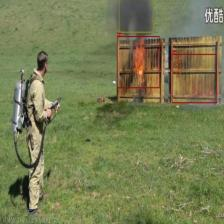fire: (172, 53, 216, 103), (117, 36, 159, 88)
smoke: (118, 0, 153, 32)
